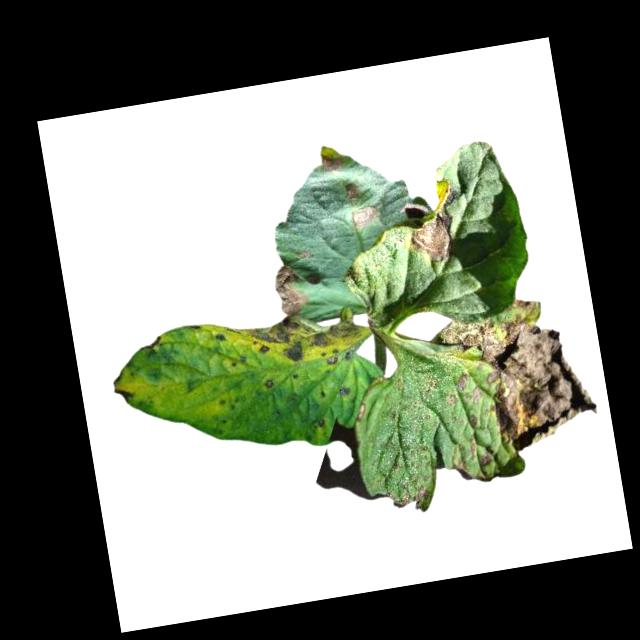Early_blight: (431, 288, 603, 462), (240, 307, 364, 379), (400, 177, 465, 269), (268, 262, 310, 317), (389, 482, 433, 514), (348, 203, 379, 231), (108, 374, 133, 406), (319, 150, 345, 176), (343, 182, 362, 203), (335, 384, 352, 402), (354, 402, 368, 423), (213, 329, 229, 346), (262, 376, 277, 394)
